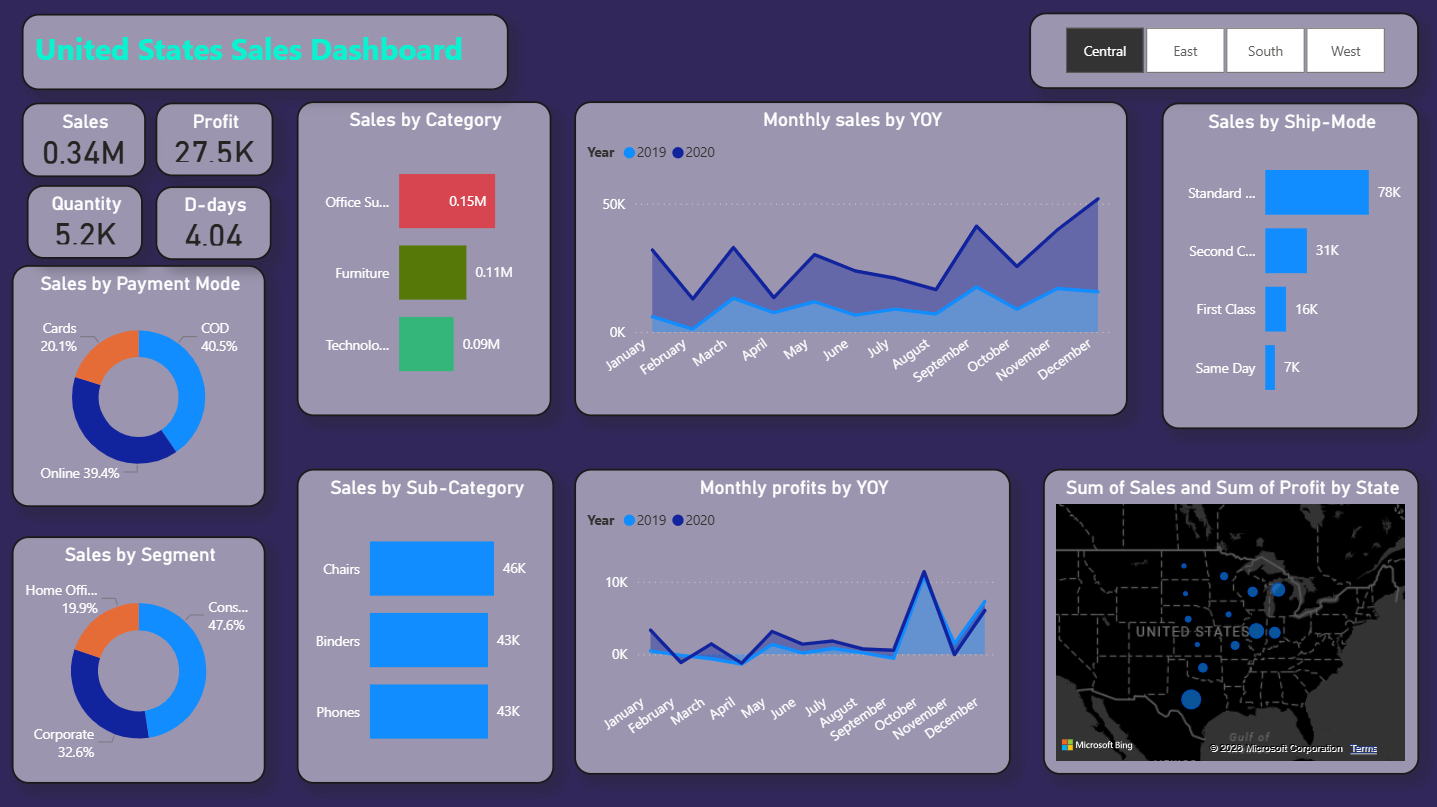

The dashboard page shown, as its layout file describes it:
{"tool":"powerbi","page":{"name":"Page 1","canvas":[1280,720],"ordinal":0},"visuals":[{"type":"clusteredBarChart","title":" Sales by Category","fields":{"Category":["SuperStore_Sales_Dataset.Category"],"Y":["Sum(SuperStore_Sales_Dataset.Sales)"]},"box":[36,46,280,280],"z":0},{"type":"clusteredBarChart","title":" Sales by Sub-Category","fields":{"Category":["SuperStore_Sales_Dataset.Sub-Category"],"Y":["Sum(SuperStore_Sales_Dataset.Sales)"]},"box":[1000,380,280,280],"z":1000},{"type":"clusteredBarChart","title":" Sales by Ship-Mode","fields":{"Category":["SuperStore_Sales_Dataset.Ship Mode"],"Y":["Sum(SuperStore_Sales_Dataset.Sales)"]},"box":[978,80,280,280],"z":2000},{"type":"stackedAreaChart","title":"Monthly sales by YOY","fields":{"Y":["Sum(SuperStore_Sales_Dataset.Sales)"],"Category":["SuperStore_Sales_Dataset.Order Date.Variation.Date Hierarchy.Month"],"Series":["SuperStore_Sales_Dataset.Order Date.Variation.Date Hierarchy.Year"]},"box":[384,98,560,262],"z":3000},{"type":"stackedAreaChart","title":"Monthly profits by YOY","fields":{"Category":["SuperStore_Sales_Dataset.Order Date.Variation.Date Hierarchy.Month"],"Series":["SuperStore_Sales_Dataset.Order Date.Variation.Date Hierarchy.Year"],"Y":["Sum(SuperStore_Sales_Dataset.Profit)"]},"box":[384,396,560,278],"z":4000},{"type":"map","fields":{"Category":["SuperStore_Sales_Dataset.State"]},"box":[36,396,280,324],"z":5000}]}

Visuals, with their boxes in screenshot pixels (x1, y1, x2, y2), scaled from the page's 1280x720 canvas onto the 1437x807 screenshot:
" Sales by Category" clusteredBarChart: {"x1": 40, "y1": 52, "x2": 355, "y2": 365}
" Sales by Sub-Category" clusteredBarChart: {"x1": 1123, "y1": 426, "x2": 1436, "y2": 740}
" Sales by Ship-Mode" clusteredBarChart: {"x1": 1098, "y1": 90, "x2": 1412, "y2": 404}
"Monthly sales by YOY" stackedAreaChart: {"x1": 431, "y1": 110, "x2": 1060, "y2": 404}
"Monthly profits by YOY" stackedAreaChart: {"x1": 431, "y1": 444, "x2": 1060, "y2": 755}
map - SuperStore_Sales_Dataset.State: {"x1": 40, "y1": 444, "x2": 355, "y2": 806}
